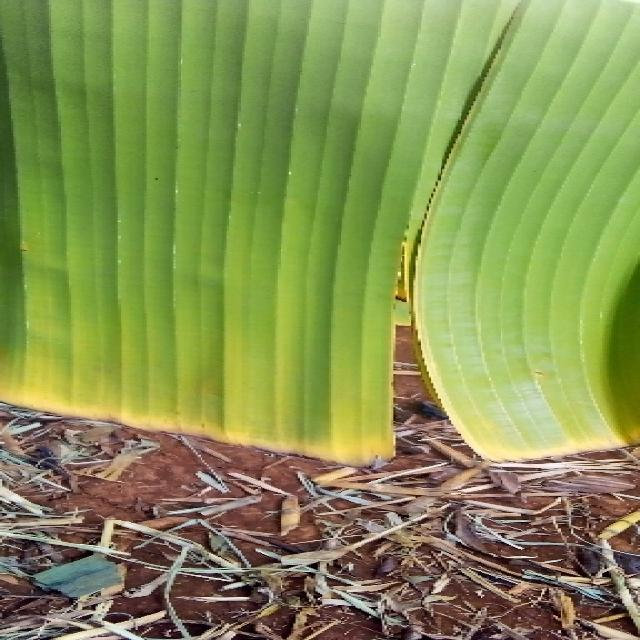Cordana: (0, 156, 640, 482)
